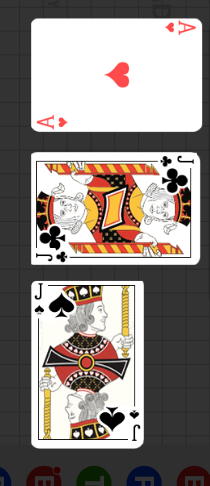7S: (129, 408, 143, 442)
AH: (35, 113, 70, 129)
JC: (35, 249, 70, 264)
